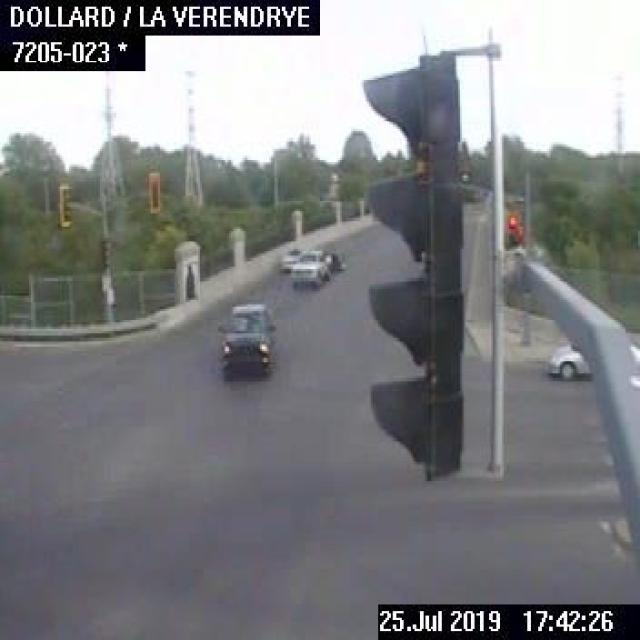vehicle: (216, 300, 278, 378), (544, 338, 638, 378), (290, 244, 338, 286), (281, 247, 303, 270)
